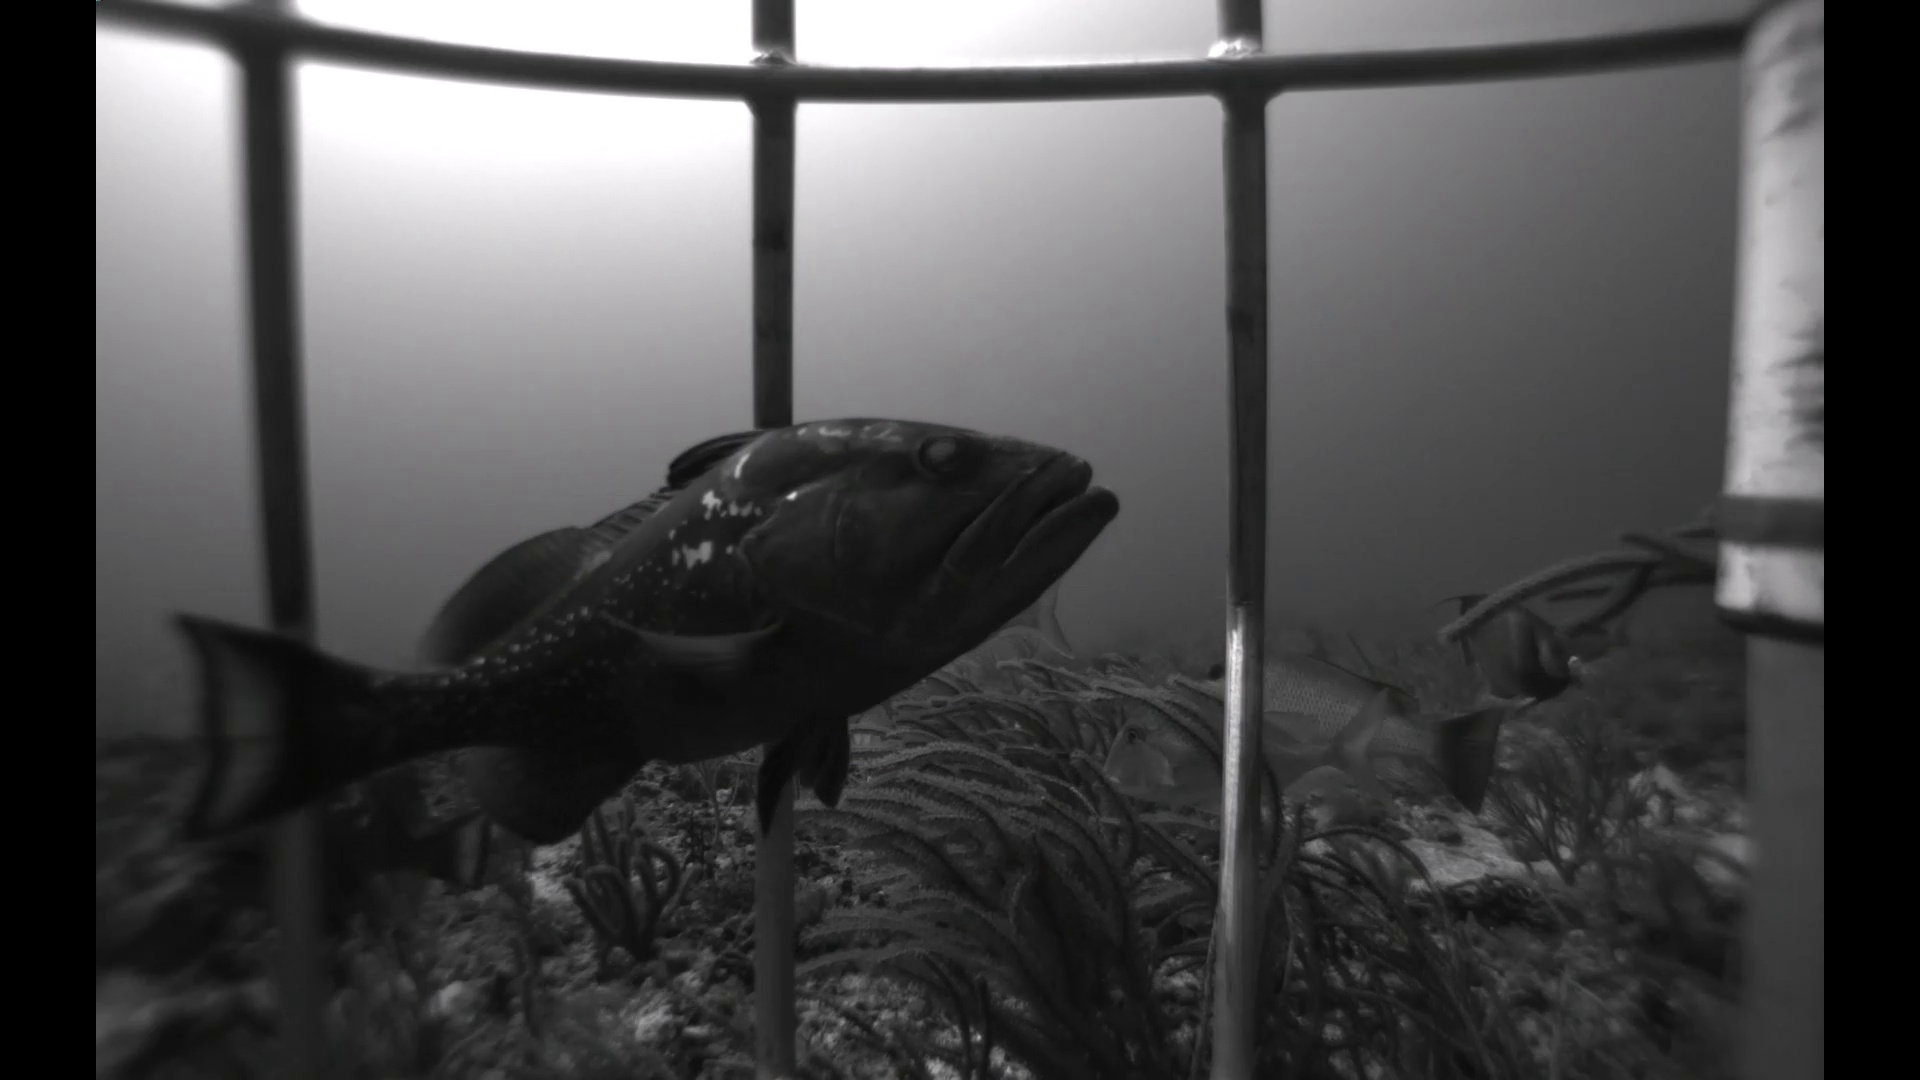CALAMUSNODOSUS-170210608: (1055, 662, 1399, 845)
EPINEPHELUSMORIO-170021211: (138, 405, 1143, 891), (189, 749, 506, 926)
LUTJANUSGRISEUS-170151109: (1146, 624, 1527, 828)
PAGRUSPAGRUS-170212302: (992, 571, 1084, 667)
POMACANTHUSARCUATUS-170290201: (1415, 578, 1602, 713)
